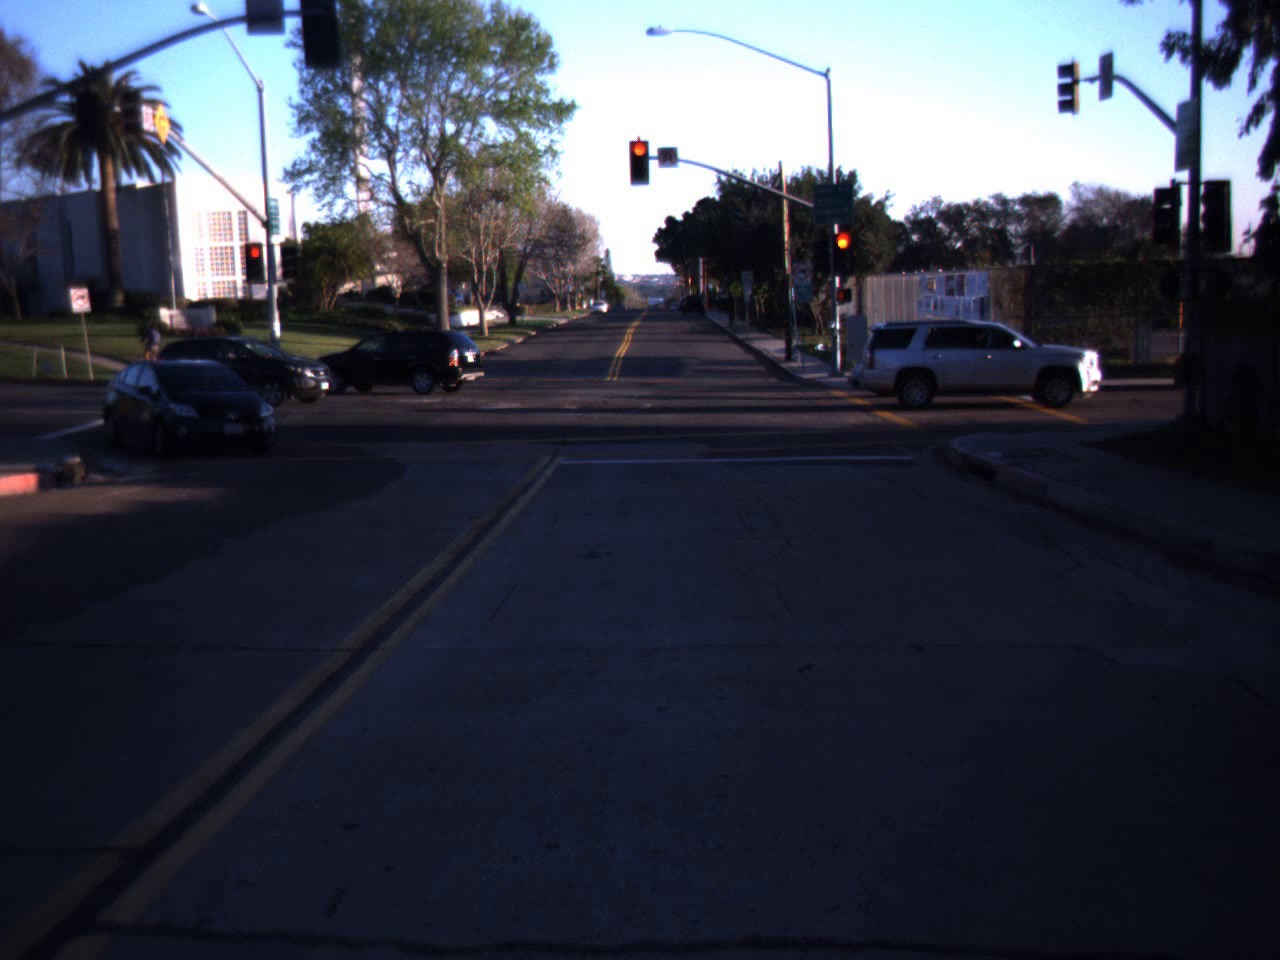stop: (829, 234, 856, 274), (626, 143, 653, 179), (246, 245, 264, 276)
